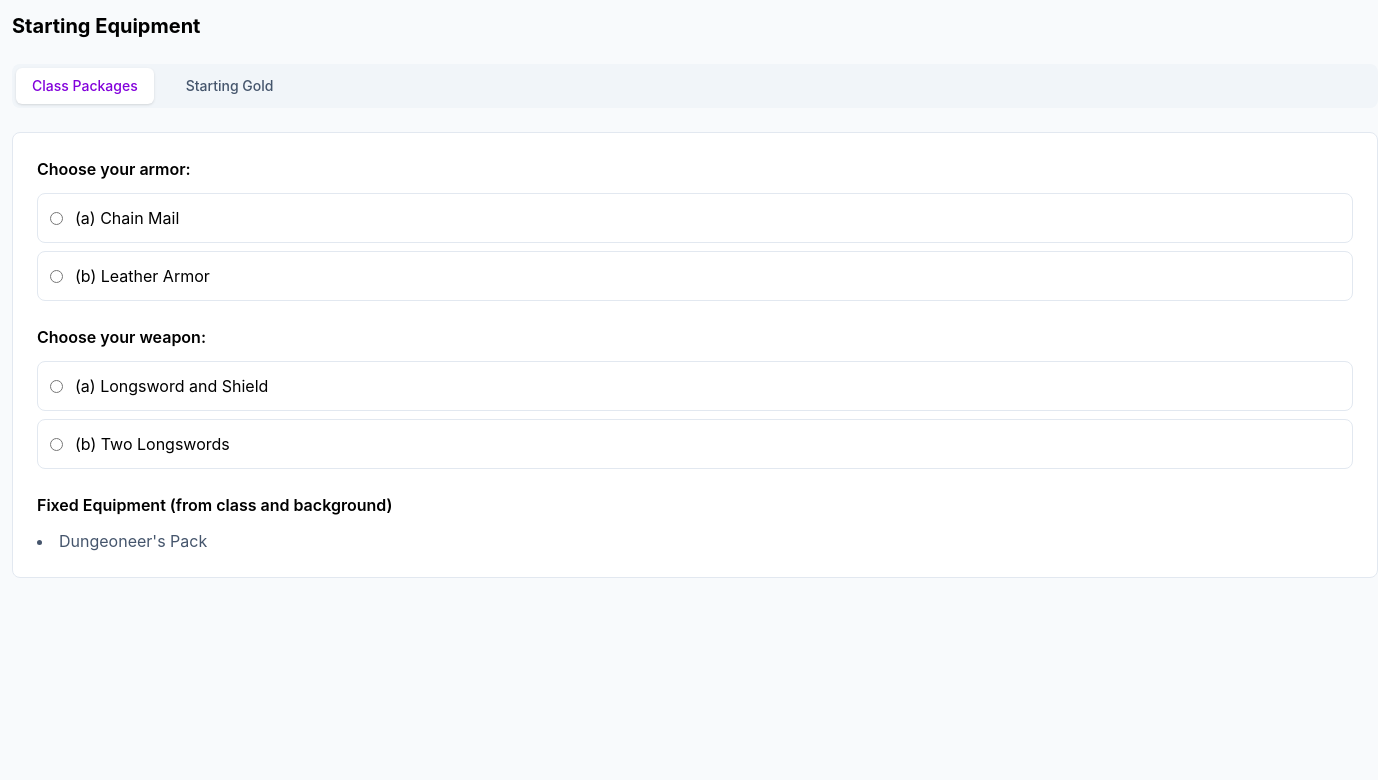
Test case: EquipmentFeatsStep - Starting Gold Mode › rolls gold and displays amount
Click the button "Starting Gold" at (230, 86), box [170,68,289,104]
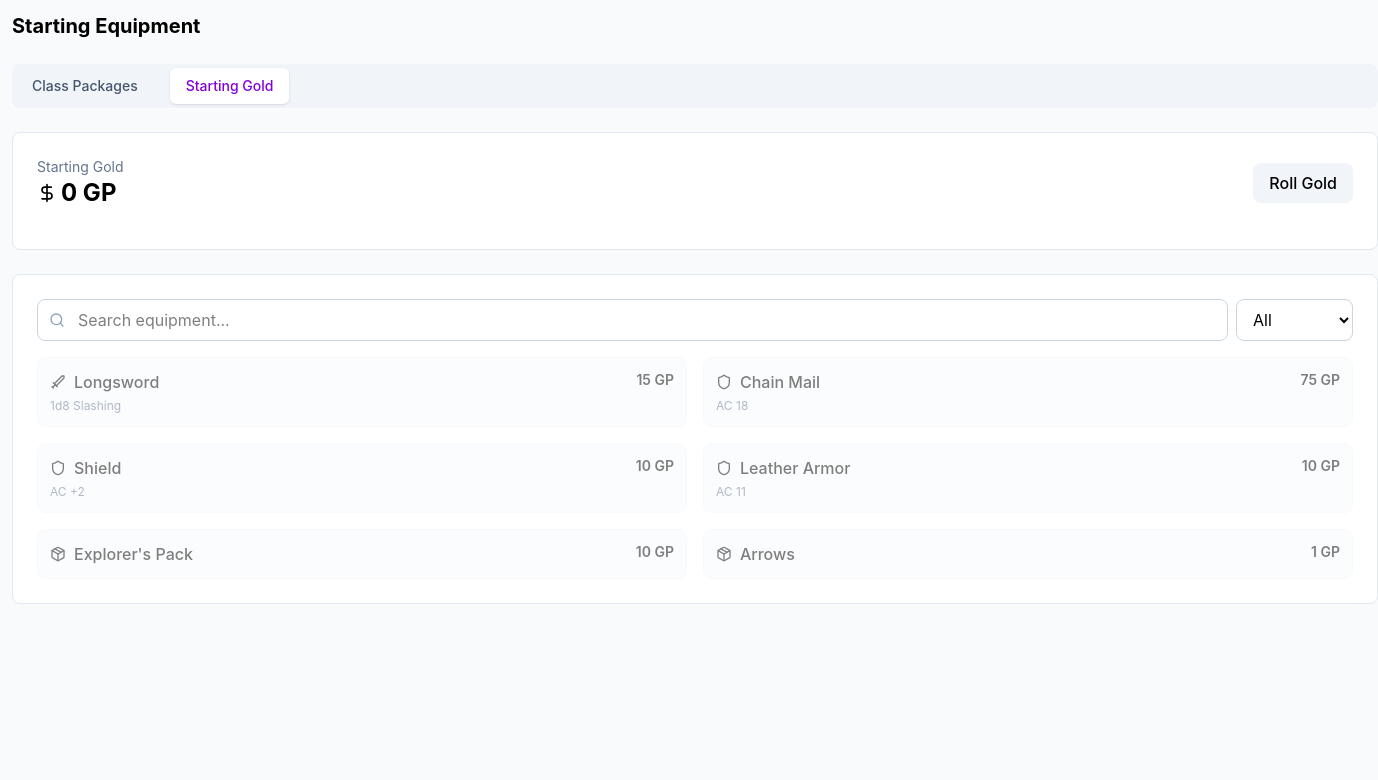
Check: the button "Roll Gold" is shown
Click the button "Roll Gold" at (1303, 183), box [1253,163,1353,203]
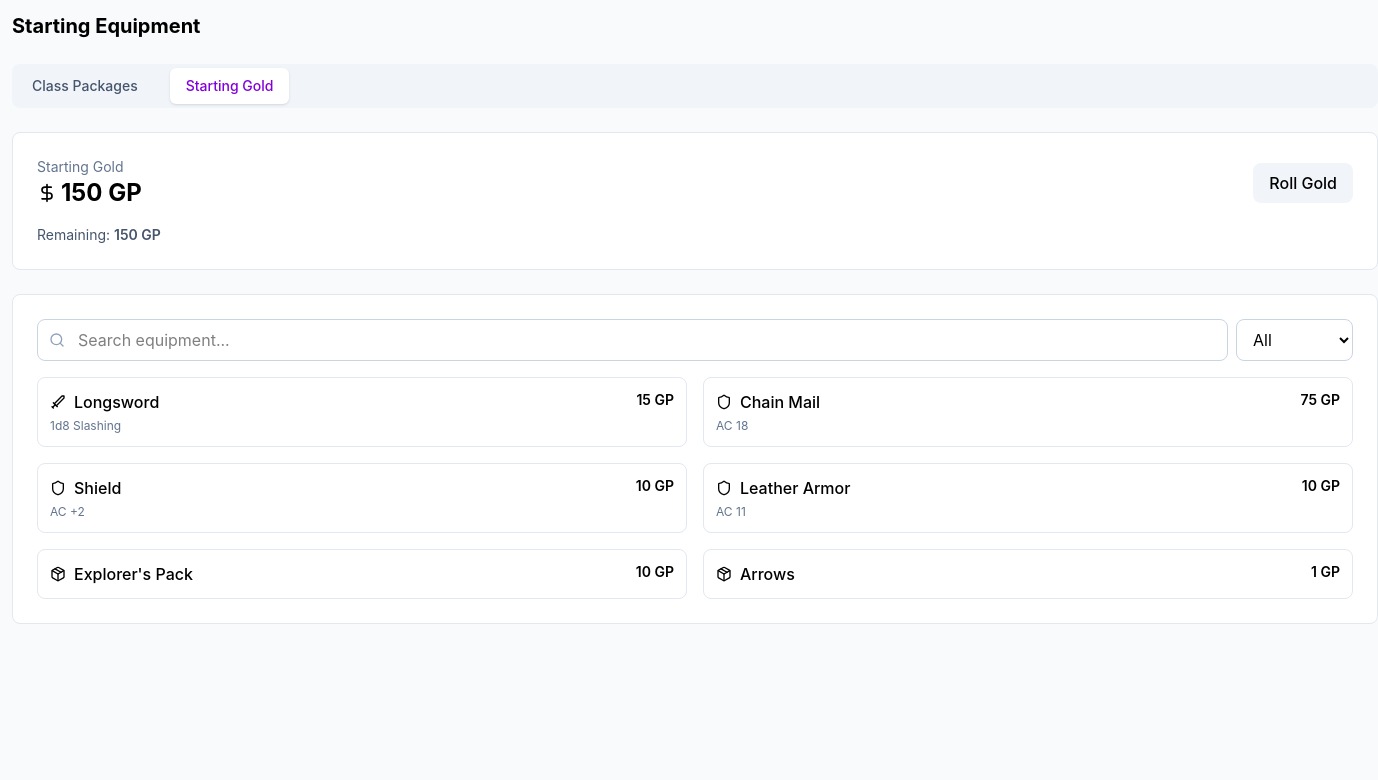
Check: the text "Remaining: 150 GP" is shown, box [37,226,161,243]
